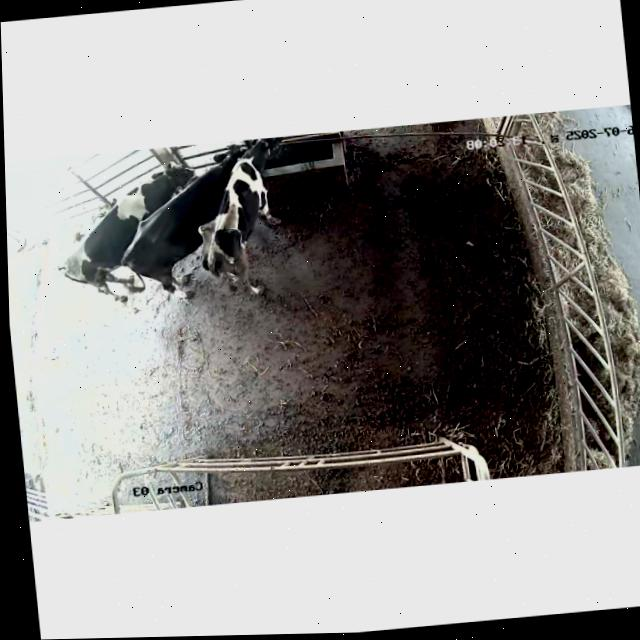drink: (237, 135, 298, 194), (204, 140, 252, 187)
stand: (49, 159, 207, 317)
